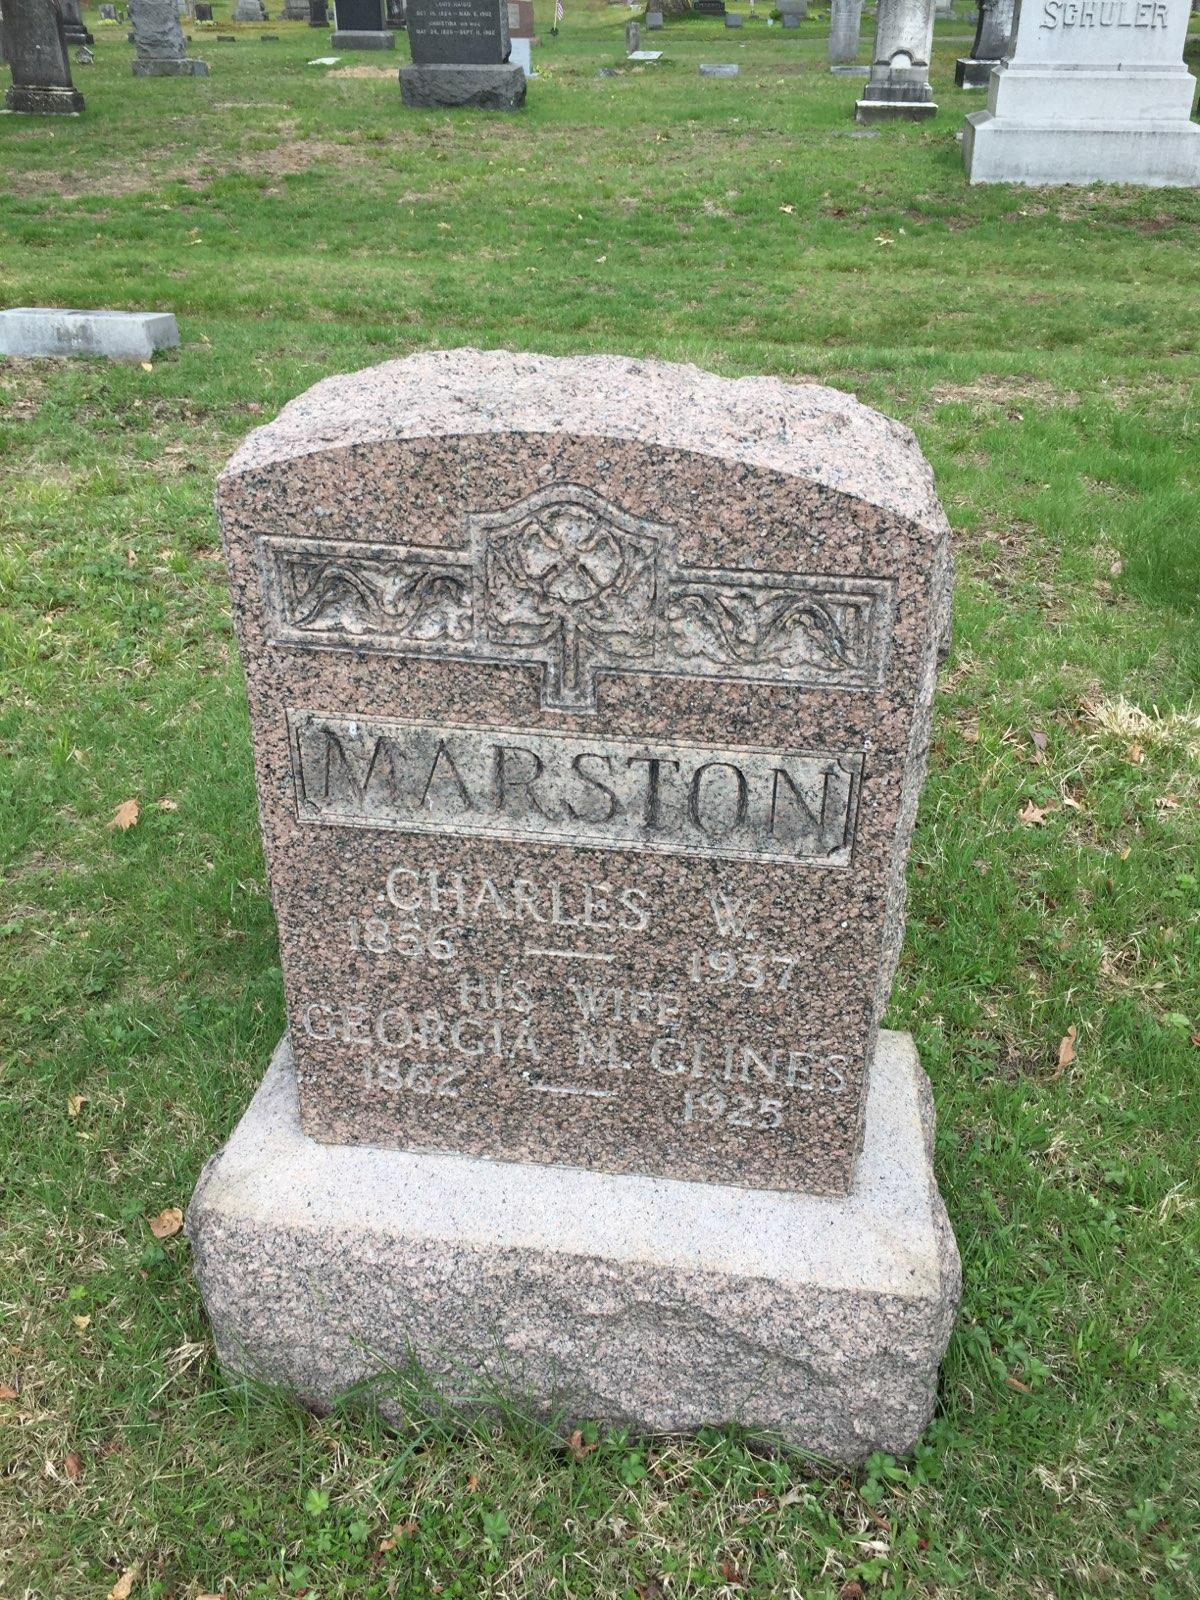upright: (221, 343, 947, 1203)
